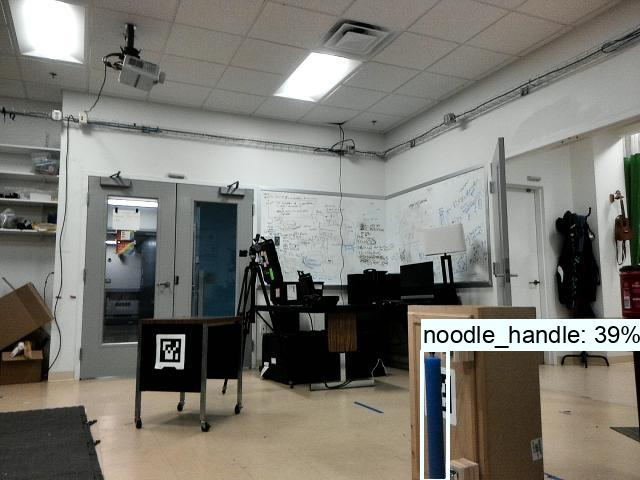noodle_handle: (421, 354, 448, 480)
